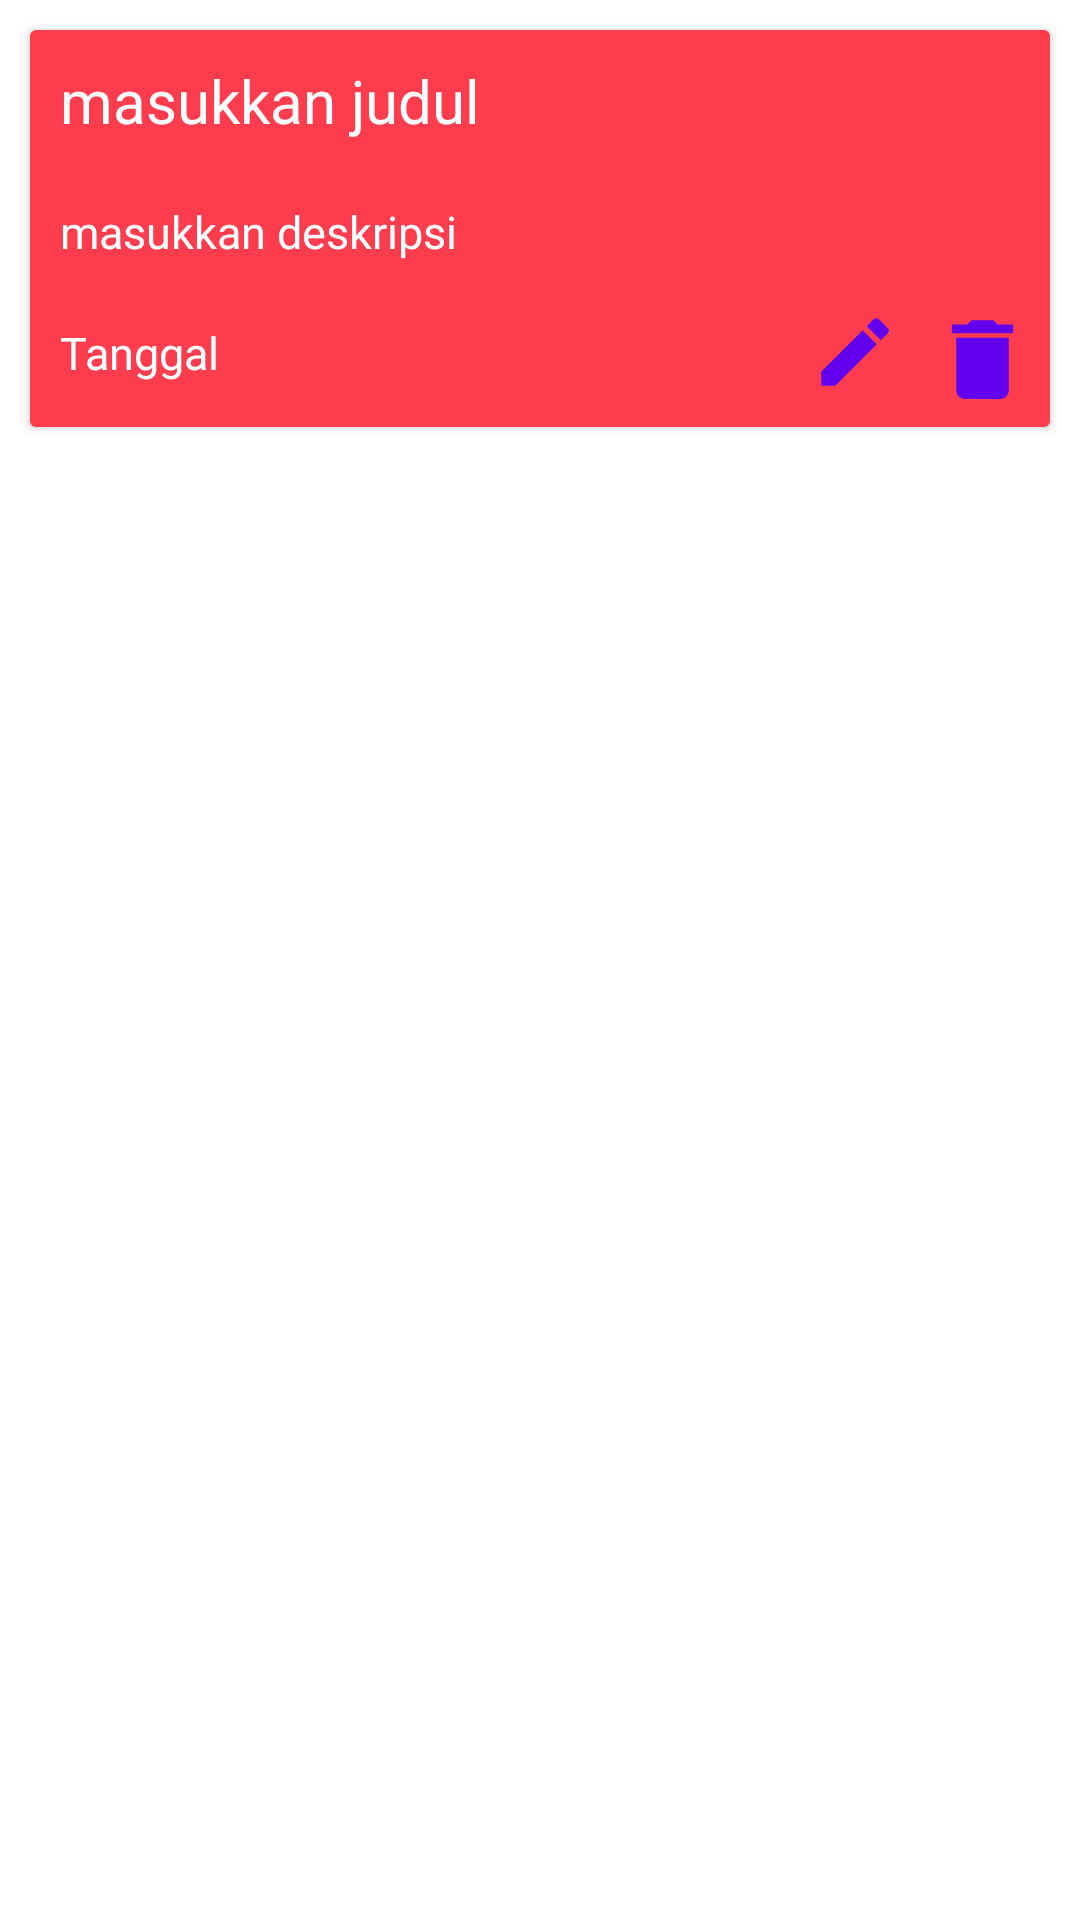

Named icons in this screenshot (1080x1920) and their bounding boxes, bbox=[x1, y1, x2, y2]:
delete: bbox=[952, 320, 1013, 399]
edit: bbox=[821, 318, 889, 386]
